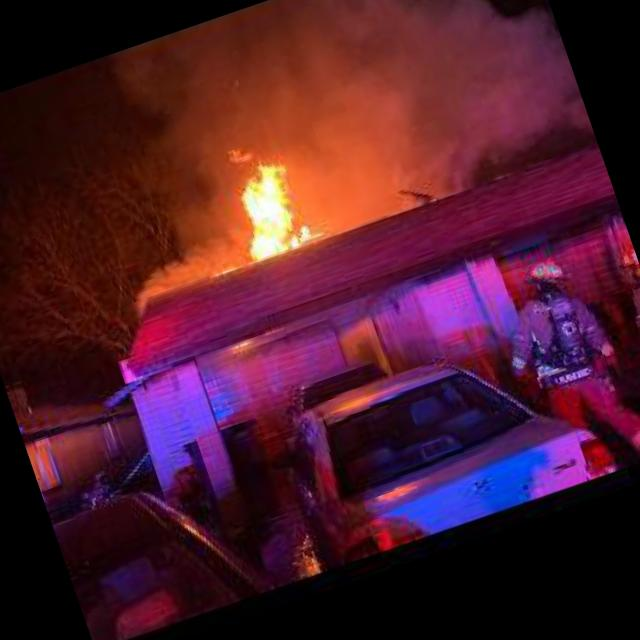fire: (178, 127, 324, 276)
smoke: (124, 0, 597, 280)
